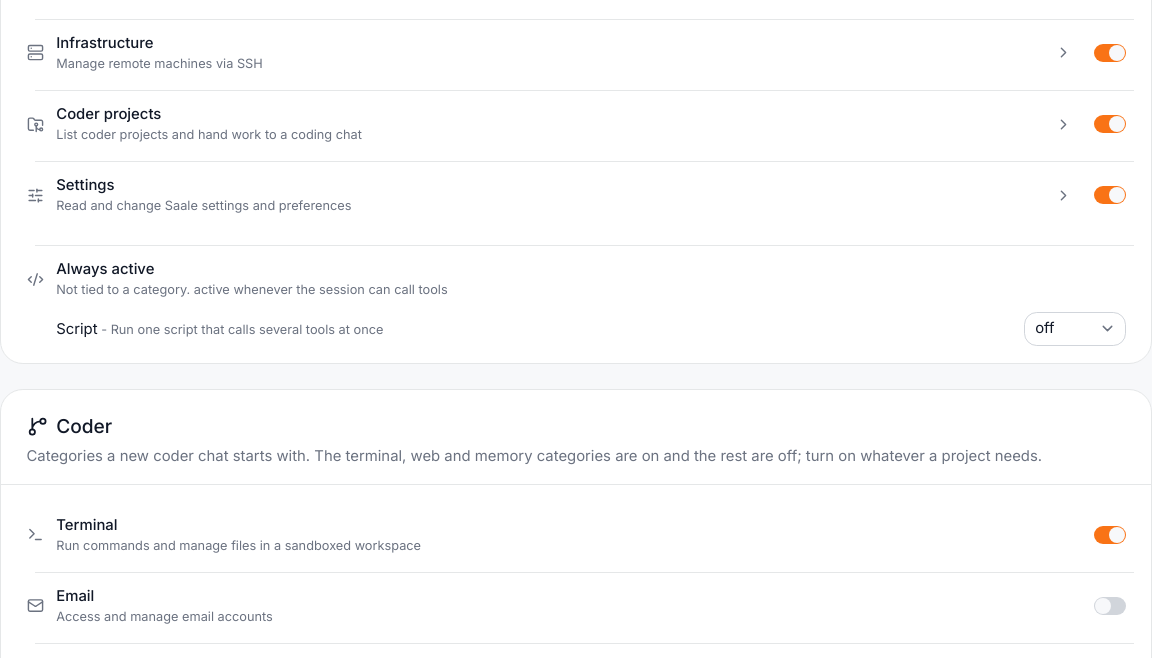
Test: Tools always-active tools › shows the policy the user stored
(page scrolled)
Click the dropdown at (1074, 329), box [1024, 312, 1126, 346]
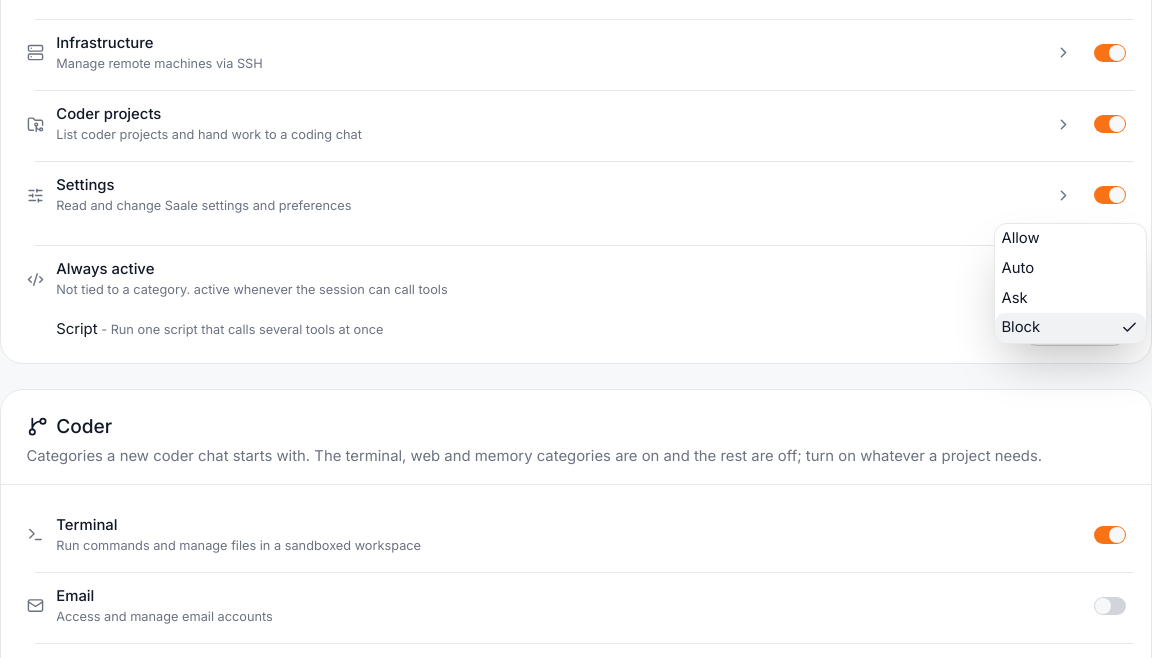
Check: the text "Block" is shown, box [1001, 318, 1040, 336]
